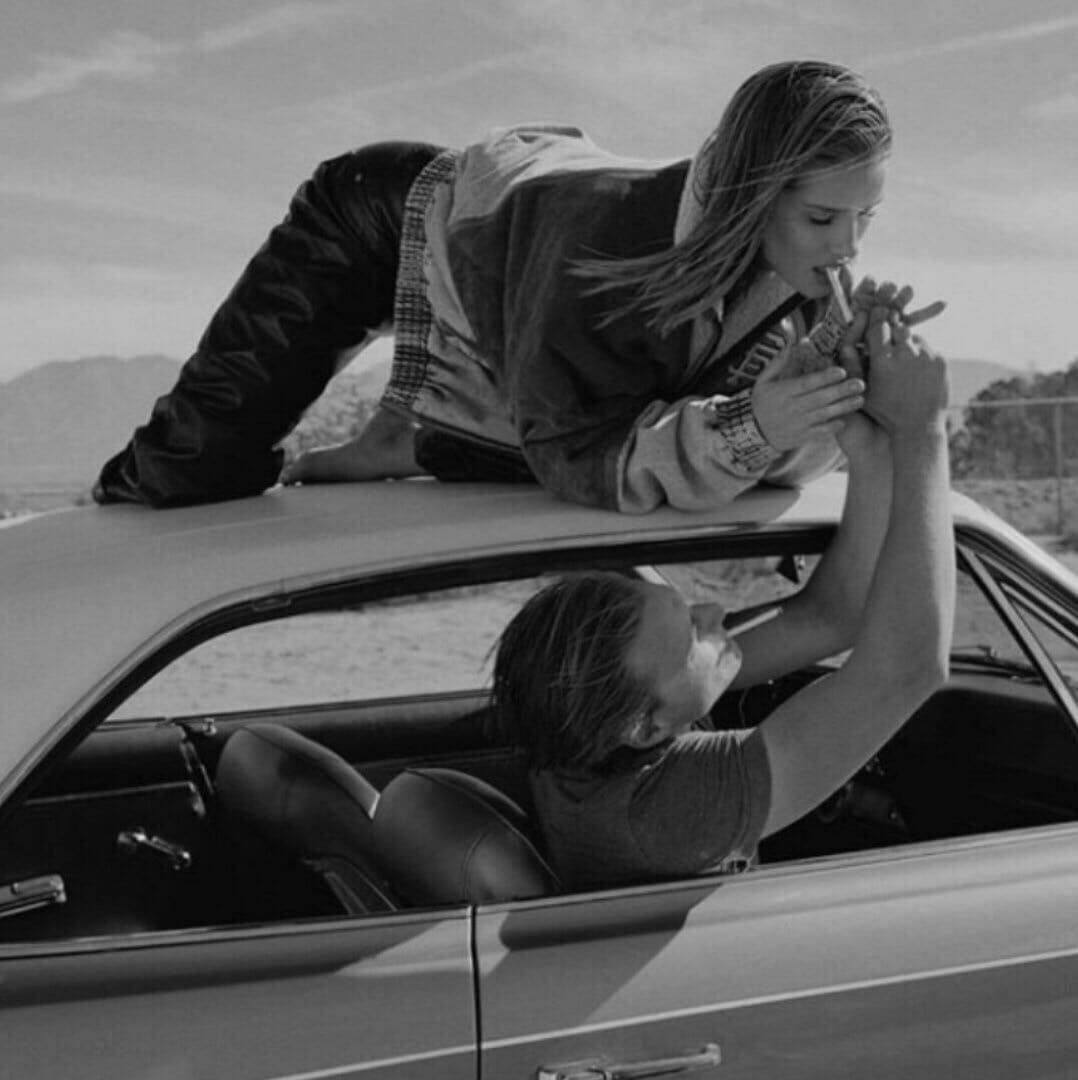cigarette: (824, 266, 856, 328)
